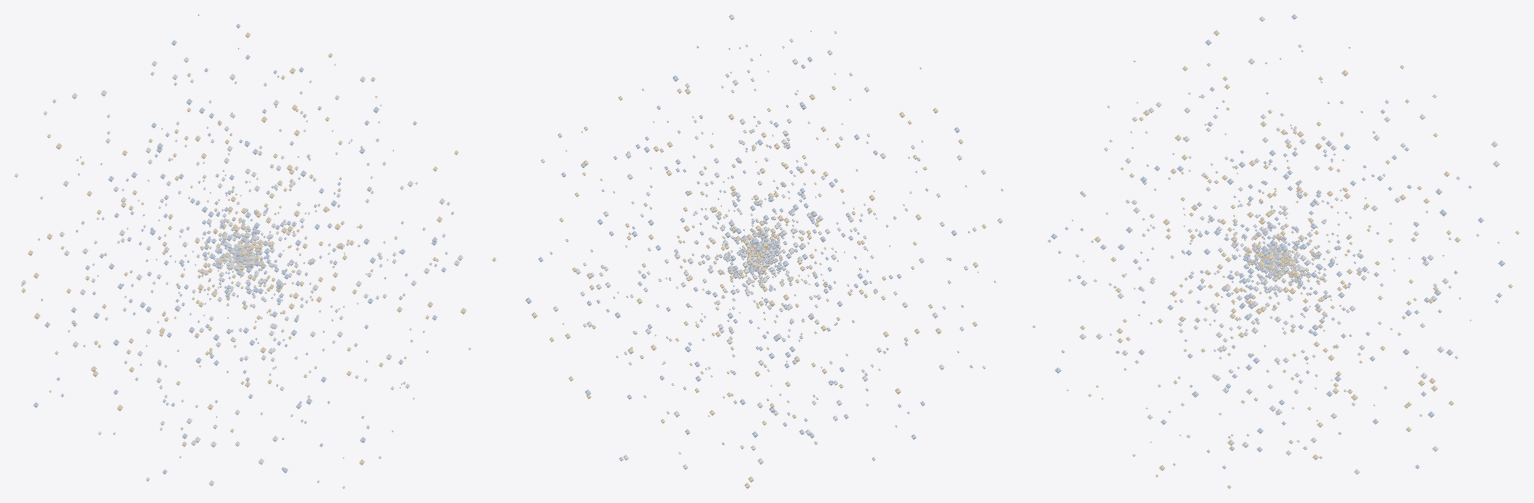
3 renders of one model, left to right at view 1: azimuth 30°, elevation 25°; view 2: azimuth 150°, elevation 25°; view 3: azimuth 270°, elevation 25°, orthographic. The views are drawn at different scales.
Size of the model in its own units: 4.88 by 4.73 by 5.03.
